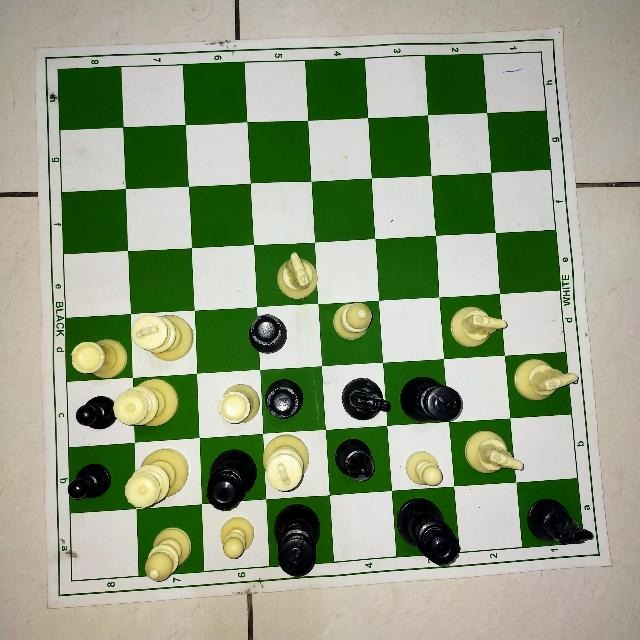black-bishop: (328, 435, 383, 485)
black-king: (273, 502, 325, 578), (397, 373, 466, 425)
black-knight: (527, 493, 595, 551), (338, 376, 393, 424)
black-pawn: (65, 458, 109, 503), (74, 394, 115, 436)
black-queen: (396, 495, 462, 571), (205, 448, 258, 520)
black-rook: (241, 312, 294, 357), (266, 374, 311, 419)
white-bishop: (138, 523, 201, 583), (329, 297, 376, 344)
white-king: (129, 311, 196, 361), (260, 433, 314, 495)
white-knight: (442, 298, 508, 357), (514, 355, 582, 404), (463, 429, 524, 483), (273, 247, 325, 302)
white-pawn: (400, 448, 447, 488), (220, 517, 258, 561)
white-queen: (121, 445, 190, 512), (111, 380, 182, 434)
white-rook: (65, 336, 129, 378), (217, 379, 261, 433)
